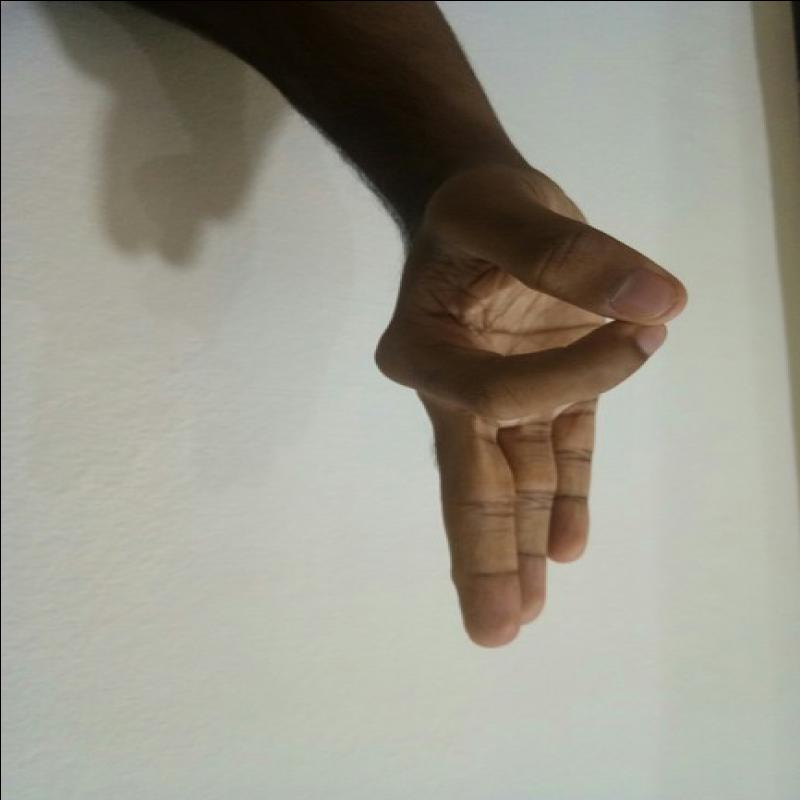Mudraakhyam: (364, 154, 704, 670)
